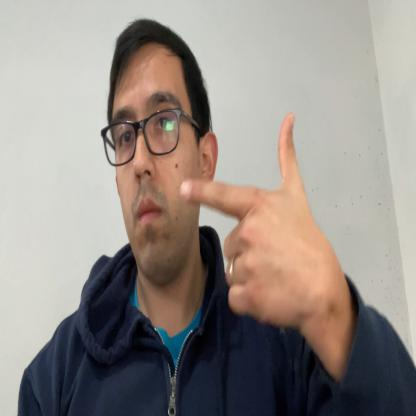G: (180, 112, 316, 329)
